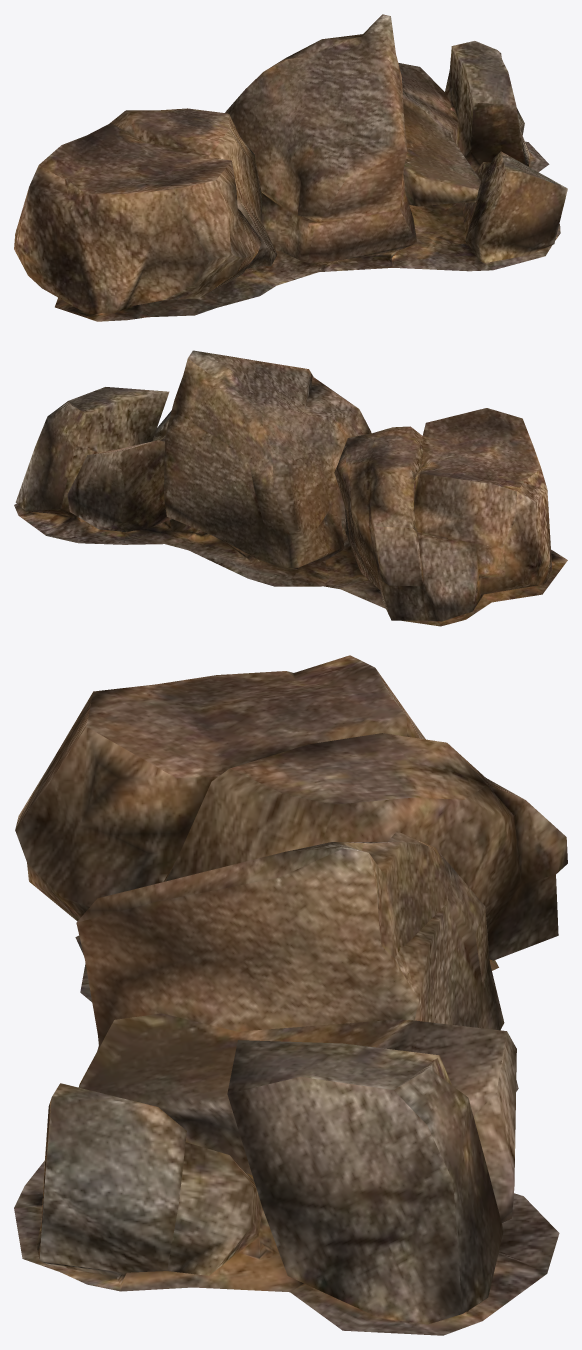
Rendered from rock.glb.
3 renders of one model, top to bottom at view 1: azimuth 30°, elevation 25°; view 2: azimuth 150°, elevation 25°; view 3: azimuth 270°, elevation 25°, orthographic. The views are drawn at different scales.
Parts seen in each view (by area): view 1: boulder_02; view 2: boulder_02; view 3: boulder_02.
Part boxes in pixels (<box>): boulder_02: <box>14,14,567,321</box>; boulder_02: <box>14,350,567,626</box>; boulder_02: <box>14,655,567,1335</box>.
Bounding box in the file's own units: 2.5 × 0.8696 × 1.23.
1 material, 1 textured.
